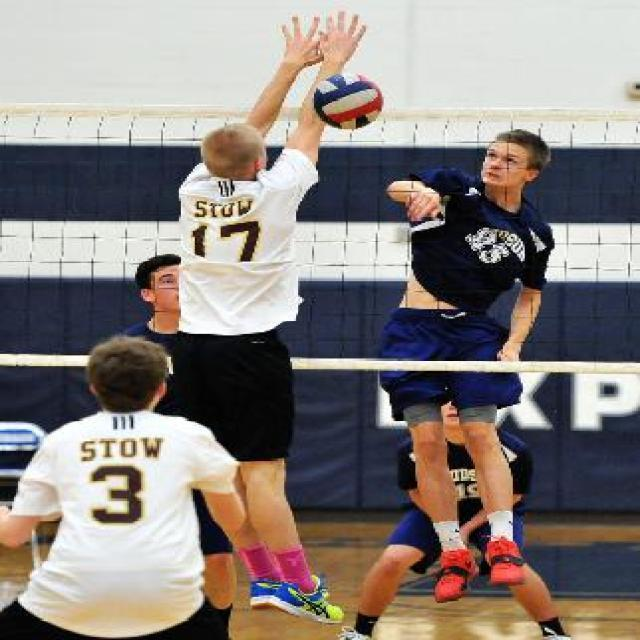volleyball: (312, 71, 383, 130)
